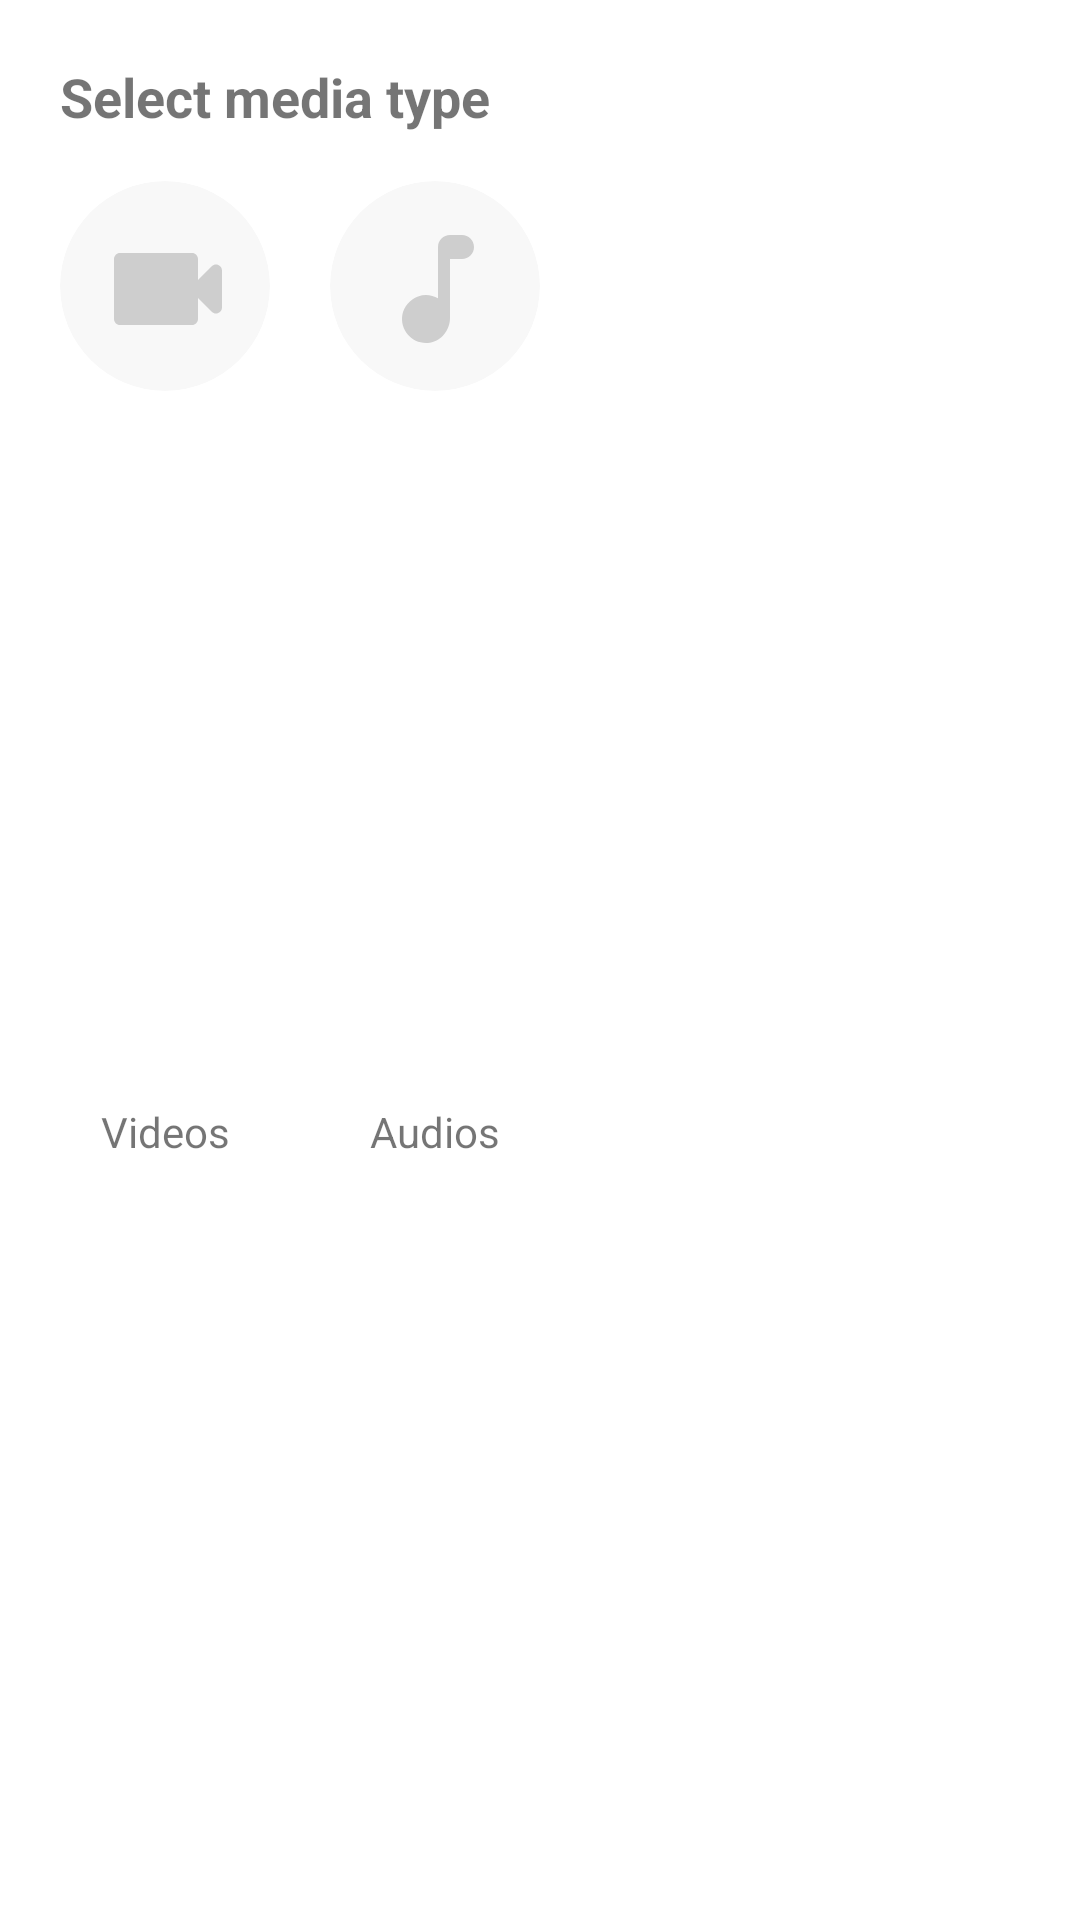

Icon click points for this 1080*1920 phone screenshot, format point (x, y):
music: point (438, 289)
videocam: point (168, 289)
